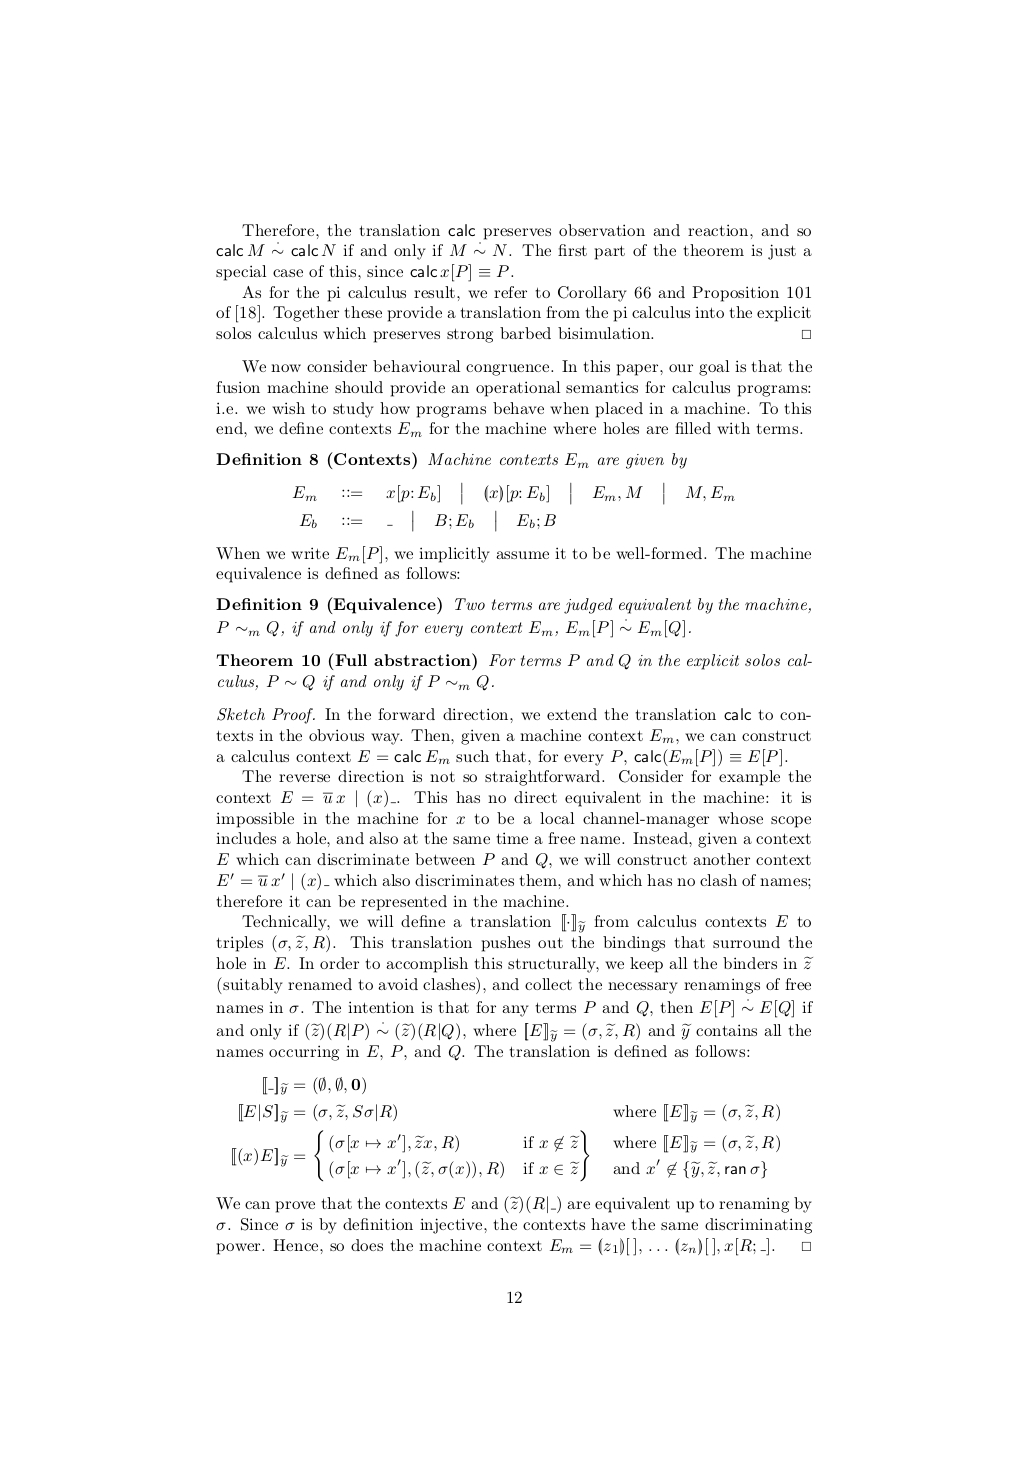formula: (232, 1128, 779, 1182), (239, 1102, 779, 1123), (292, 481, 734, 505), (299, 509, 555, 532), (263, 1075, 365, 1095)
